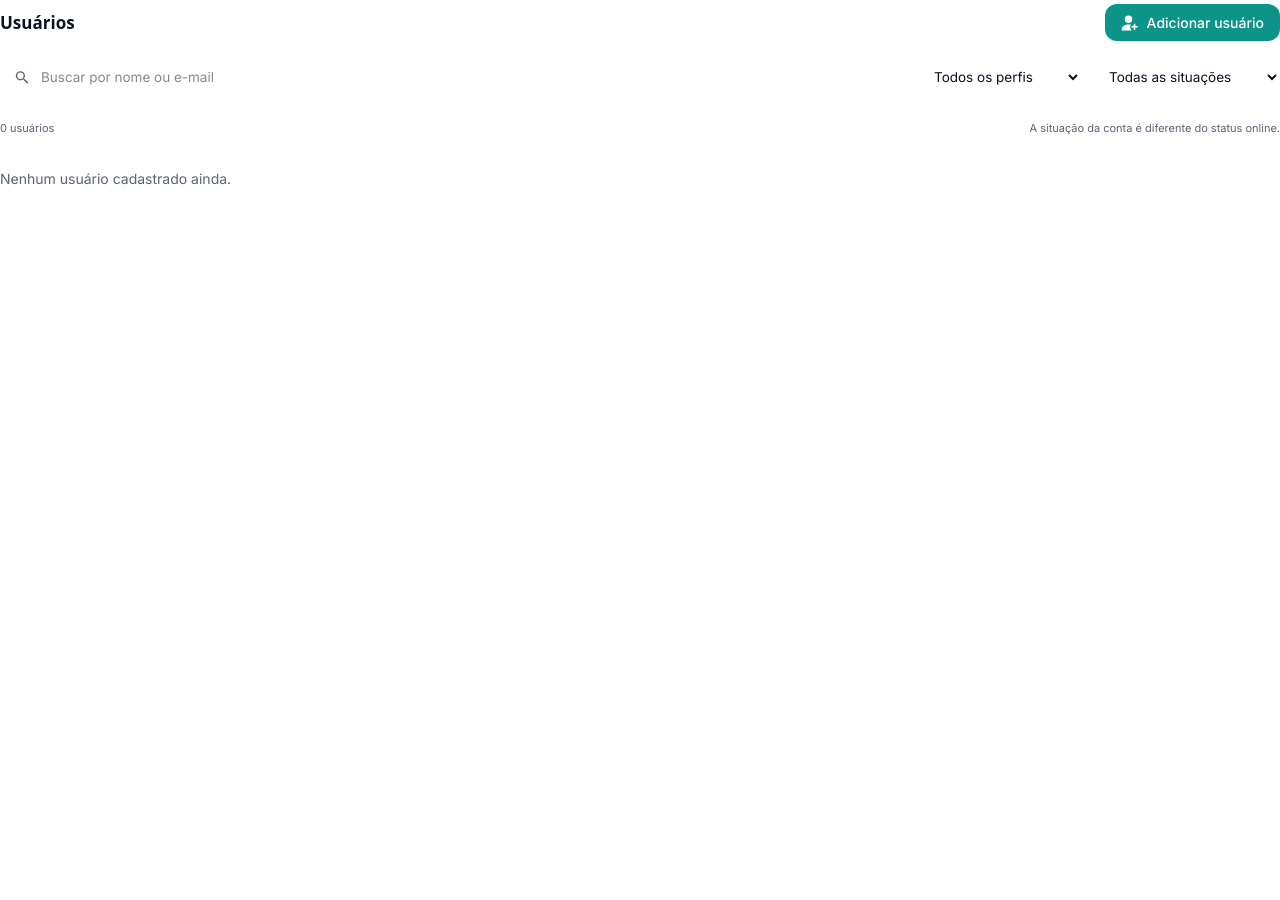
Test: Adicionar usuário › senha inicial mascarada, new-password, Mostrar/Ocultar; payload de sempre
The width and height of the screenshot is (1280, 900).
Click the button "Adicionar usuário" at (1192, 22), box [1105, 4, 1279, 41]
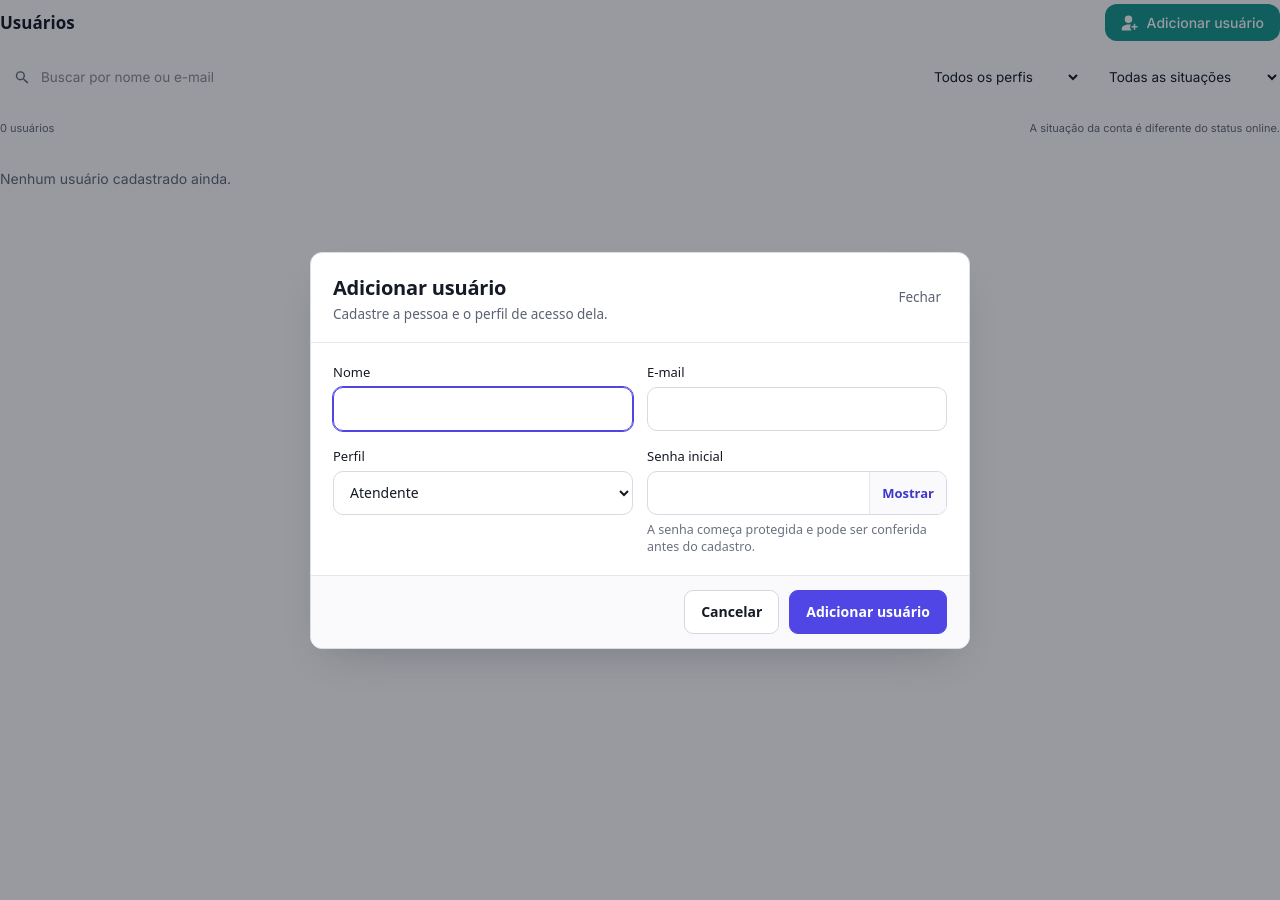
Type "Atendente Exemplo" into the field labelled "Nome" at (483, 408), box [333, 386, 633, 430]
Type "atendente@exemplo.test" into the field labelled "E-mail" at (797, 408), box [647, 386, 947, 430]
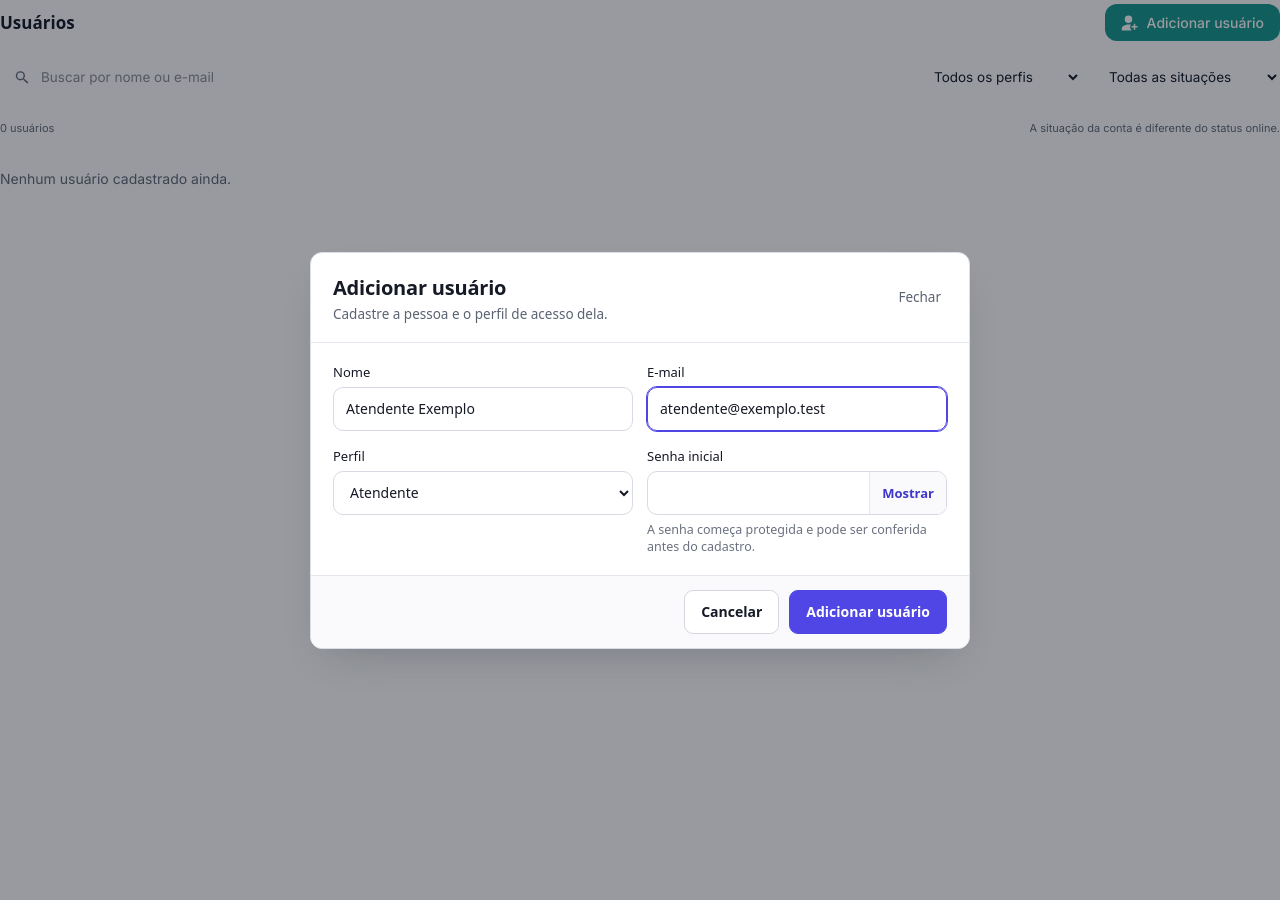
Type "senha-ficticia-1" into the password field labelled "Senha inicial" at (797, 492), box [647, 470, 947, 514]
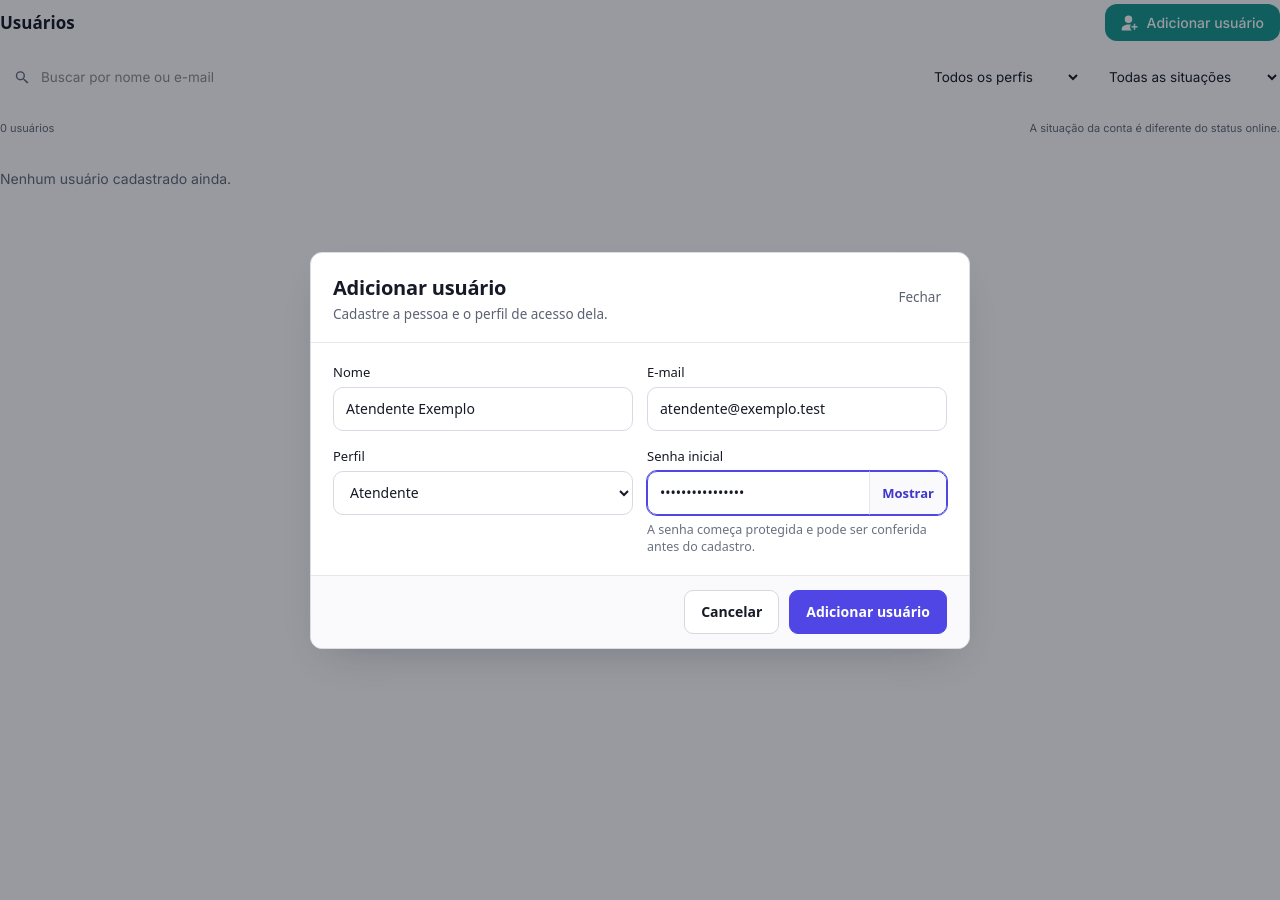
Click the button with aria-label "Mostrar senha inicial" at (908, 492), box [869, 470, 947, 514]
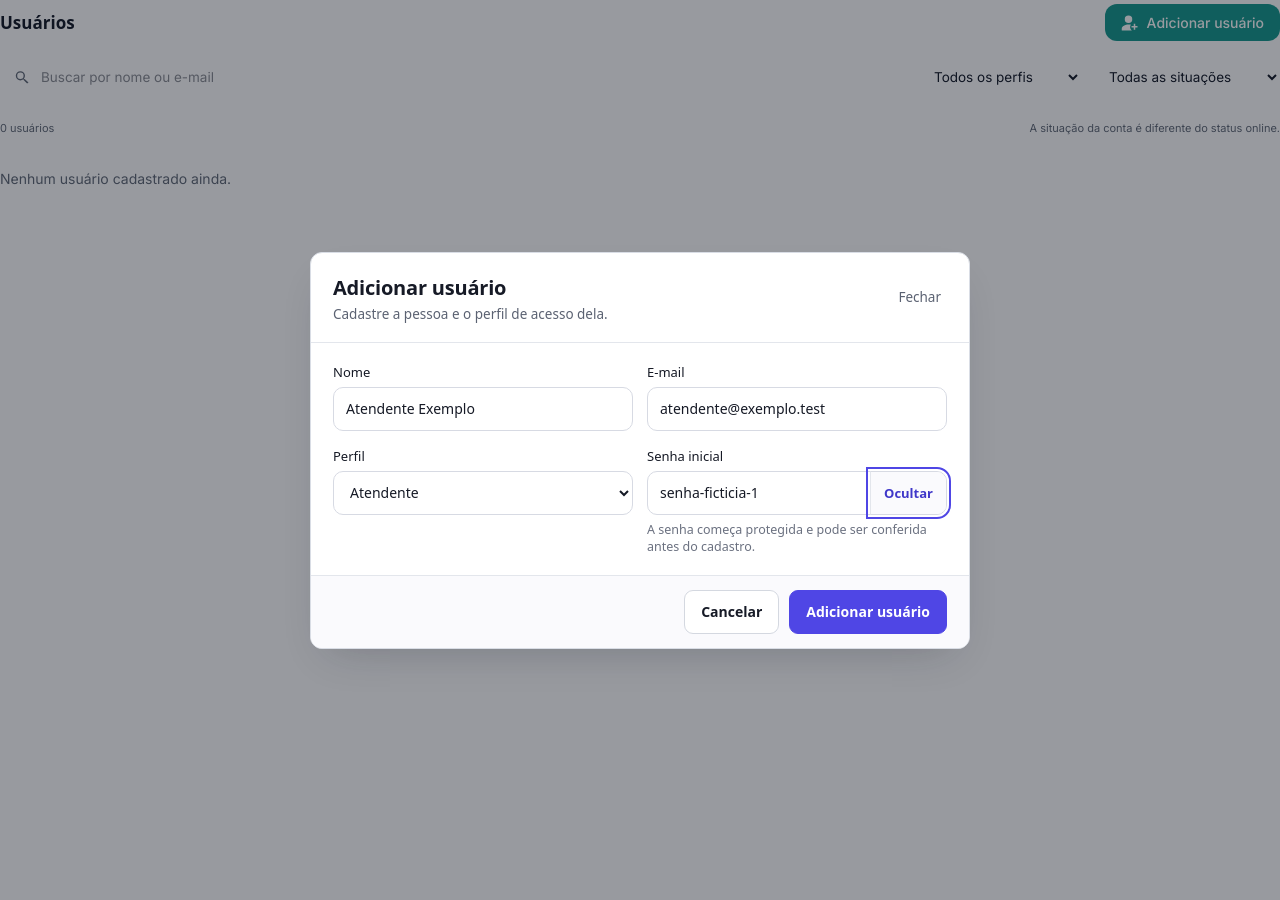
Check: the field labelled "Senha inicial" shows its text, box [647, 470, 947, 514]
Click the button with aria-label "Ocultar senha inicial" at (908, 492), box [870, 470, 947, 514]
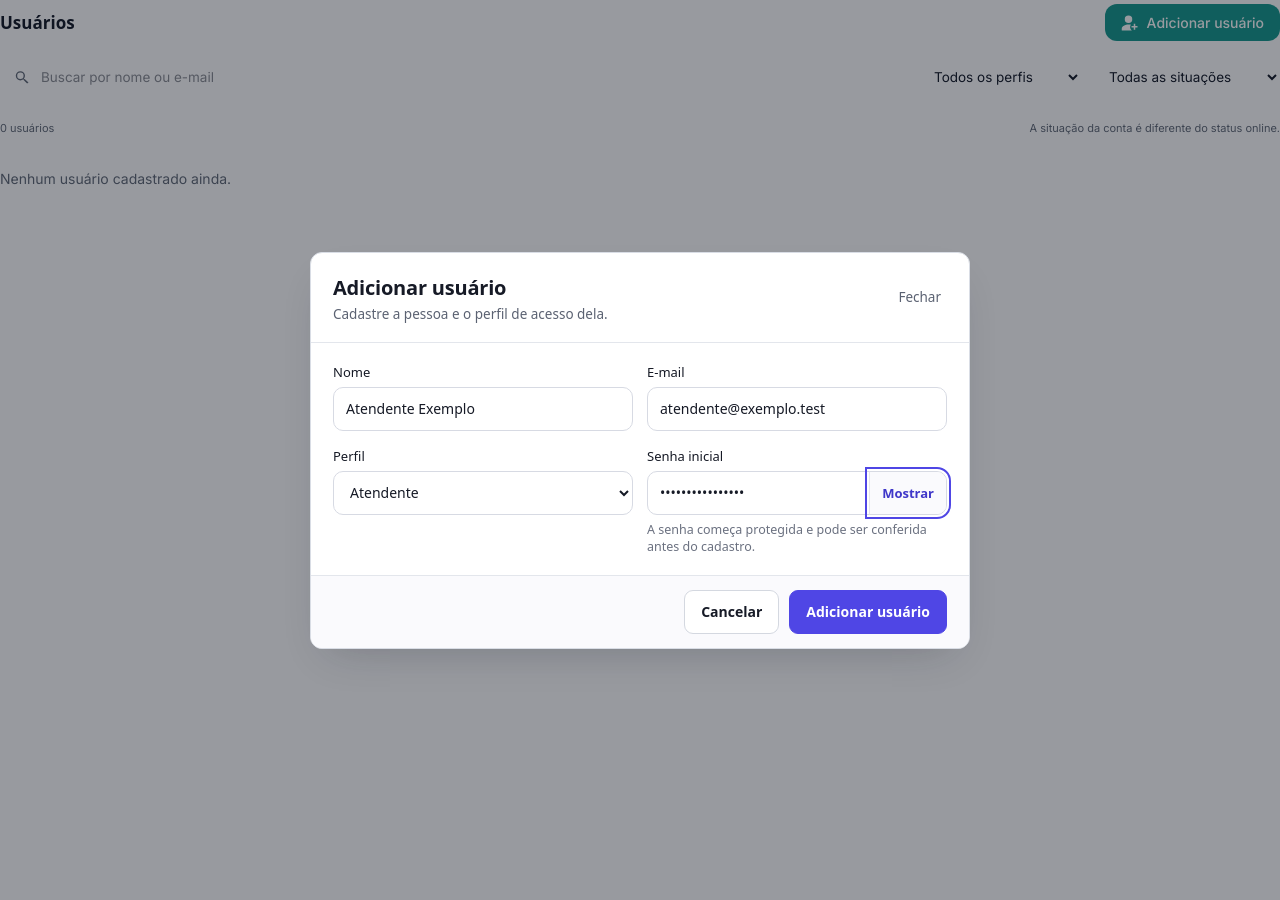
Check: the password field labelled "Senha inicial" hides its text, box [647, 470, 947, 514]
Click the button "Adicionar usuário" at (868, 612), box [789, 590, 947, 634]
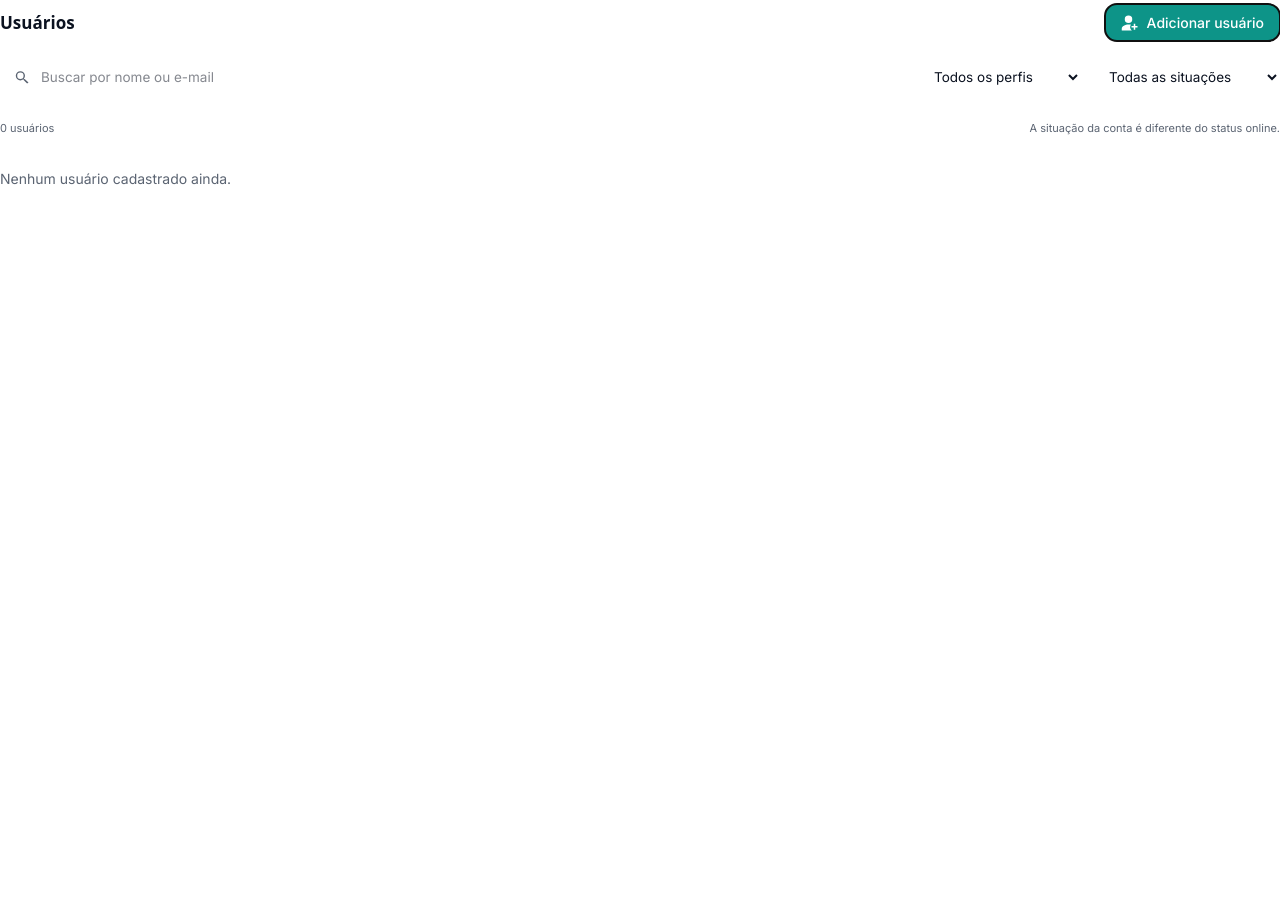
Check: the dialog is gone
